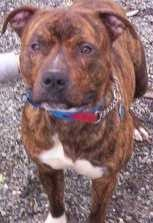dog: (0, 0, 146, 219)
